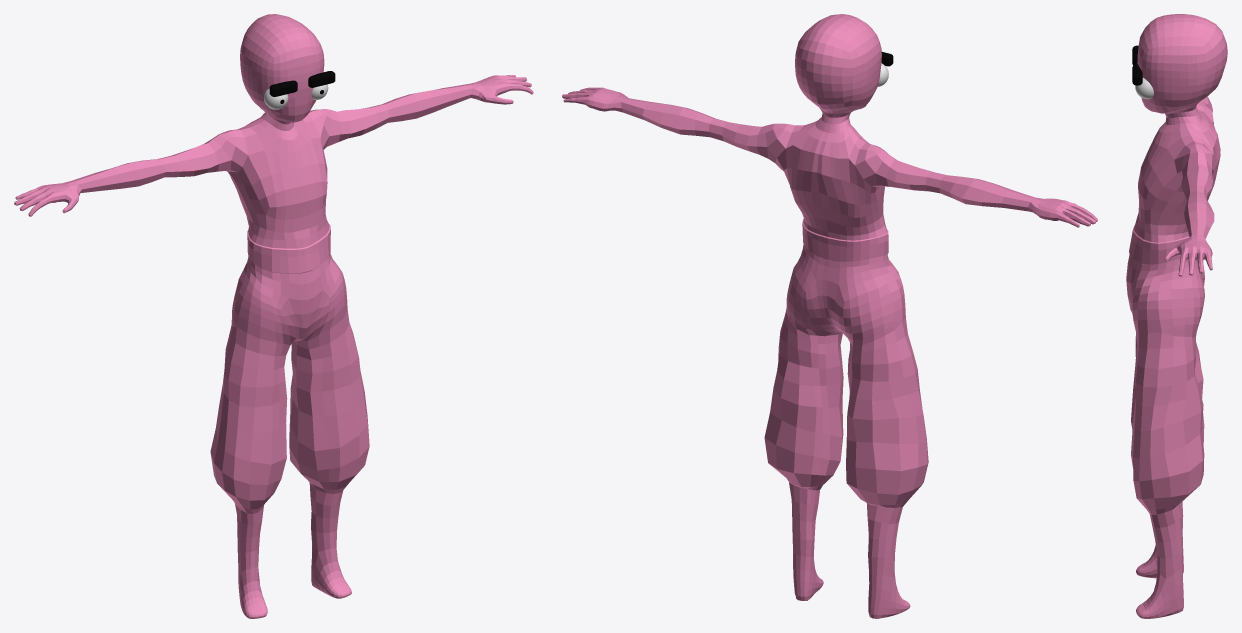
Rendered from samurai-mesh-05.fbx.
The picture shows the model from 3 angles, left to right: view 1: azimuth 30°, elevation 25°; view 2: azimuth 150°, elevation 25°; view 3: azimuth 270°, elevation 25°; orthographic projection. The views are drawn at different scales.
Visible parts, largest first — view 1: Body, Roundcube.002; view 2: Body; view 3: Body, Roundcube.002, Cube.001.
Boxes of the visible parts, box(x1,y1,x2,y2) form: Body: box(14, 14, 533, 618); Roundcube.002: box(269, 71, 335, 96); Body: box(562, 14, 1097, 618); Body: box(1126, 14, 1227, 618); Roundcube.002: box(1132, 45, 1142, 85); Cube.001: box(1135, 78, 1153, 99).
Bounding box in the file's own units: 855 × 915 × 146.
